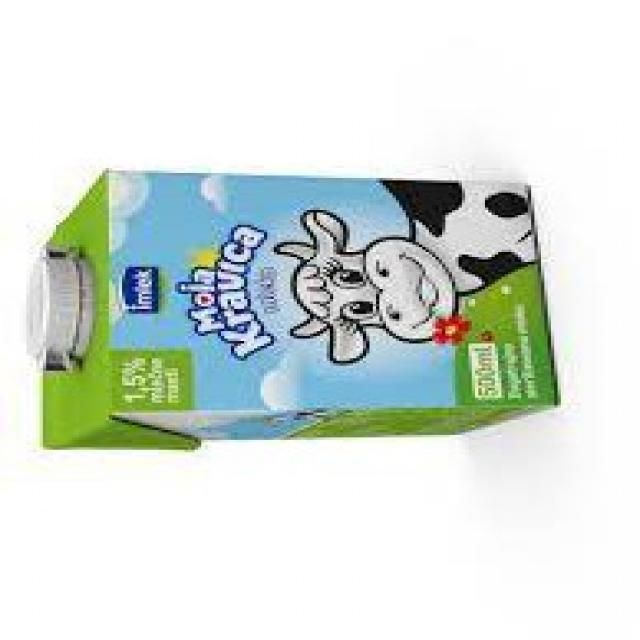non_white_jug: (21, 165, 568, 462)
